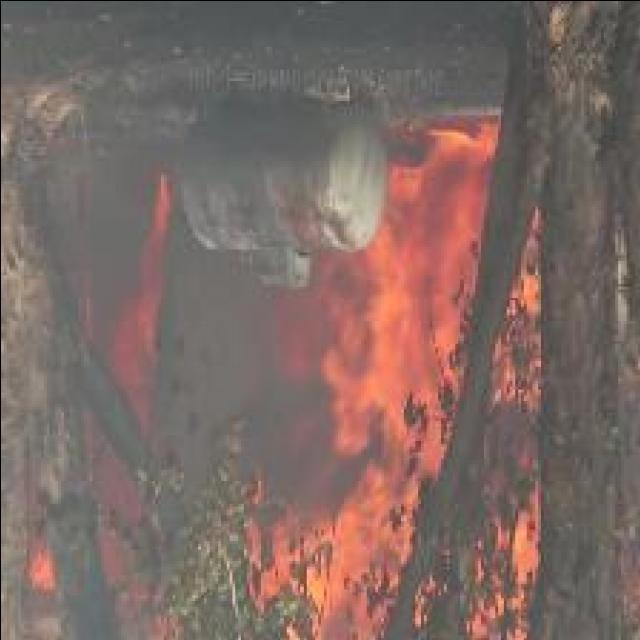Fire: (242, 120, 538, 640)
